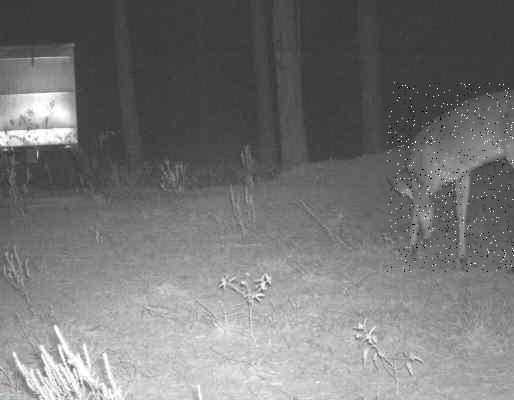Deer: (387, 82, 514, 272)
